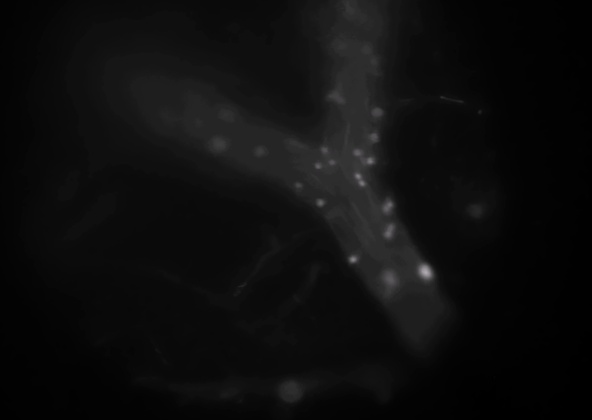cell: (419, 264, 433, 278), (370, 106, 384, 120), (349, 145, 363, 159), (364, 155, 378, 169), (317, 142, 331, 156), (310, 159, 324, 173), (324, 155, 338, 169), (325, 88, 339, 102), (350, 169, 364, 183), (332, 92, 346, 106), (355, 176, 369, 190), (345, 254, 359, 268), (382, 271, 396, 285), (382, 228, 396, 242), (383, 198, 397, 212), (385, 221, 399, 235), (379, 201, 393, 215), (314, 196, 328, 210), (291, 179, 305, 193), (252, 146, 266, 160), (209, 138, 223, 152), (358, 43, 372, 57), (368, 54, 382, 68), (331, 40, 345, 54), (366, 129, 380, 143), (367, 130, 381, 144)
